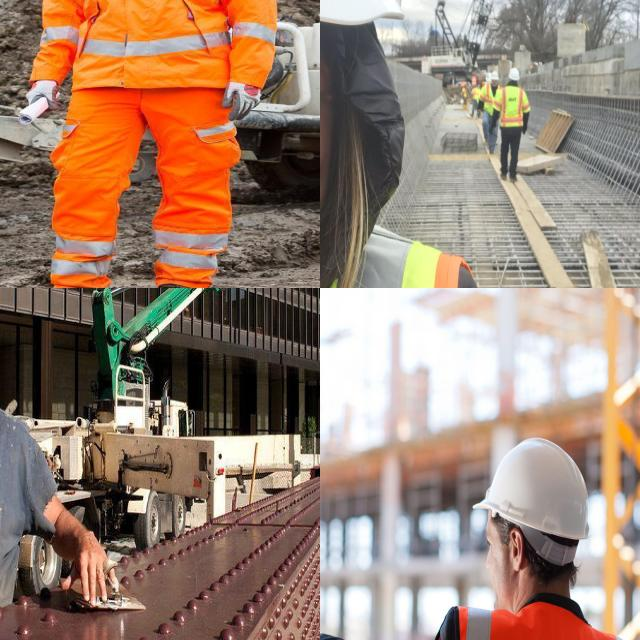face_nomask: (320, 11, 364, 276), (459, 506, 547, 624)
hand_glove: (15, 67, 80, 127), (220, 75, 278, 125)
head_helmet: (472, 439, 598, 544), (507, 67, 523, 83), (491, 70, 498, 82)
person: (15, 0, 281, 288), (320, 0, 522, 288), (372, 427, 640, 640), (500, 66, 533, 180), (481, 64, 500, 151)
shoes: (131, 277, 218, 288)
vest: (38, 0, 279, 87), (499, 87, 534, 130), (480, 84, 502, 113)
